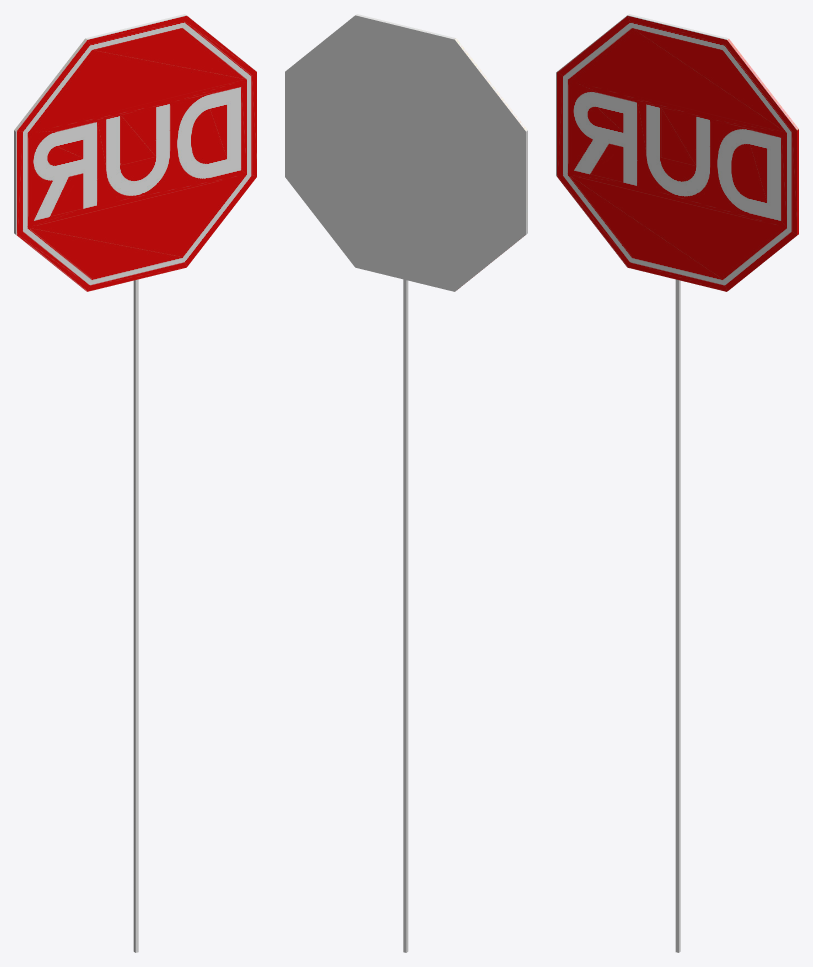
Rendered from trafik_levha_dur.obj.
3 views of the same model, side by side, from view 1: azimuth 30°, elevation 25°; view 2: azimuth 150°, elevation 25°; view 3: azimuth 330°, elevation 25° (orthographic).
Parts seen in each view (by area): view 1: Mesh2 Group3 Group1 Model, Mesh1 Group2 Group1 Model; view 2: Mesh2 Group3 Group1 Model, Mesh1 Group2 Group1 Model; view 3: Mesh2 Group3 Group1 Model, Mesh1 Group2 Group1 Model.
Part boxes in pixels (x1,y1,x2,y2): Mesh2 Group3 Group1 Model: [14, 14, 256, 291]; Mesh1 Group2 Group1 Model: [133, 279, 138, 952]; Mesh2 Group3 Group1 Model: [285, 14, 527, 291]; Mesh1 Group2 Group1 Model: [403, 279, 408, 952]; Mesh2 Group3 Group1 Model: [556, 14, 798, 291]; Mesh1 Group2 Group1 Model: [675, 279, 680, 952].
Size of the model in its own units: 750 by 2750 by 10.
Materials: 2 (1 with a texture image).
